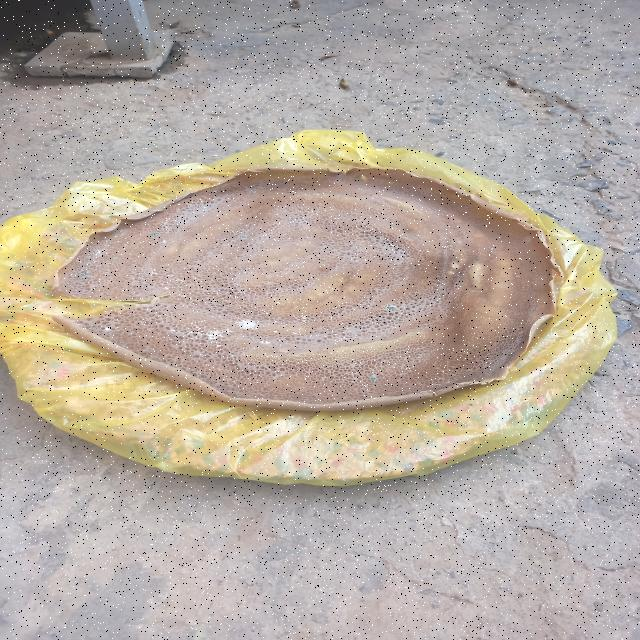injera_mold: (78, 238, 114, 263), (167, 321, 204, 341), (205, 328, 233, 342), (236, 318, 258, 332), (294, 314, 311, 324), (170, 276, 186, 285), (147, 267, 160, 278), (383, 305, 397, 312), (79, 268, 91, 276), (103, 326, 114, 334), (258, 340, 274, 345), (150, 231, 159, 238), (370, 375, 377, 382), (240, 234, 248, 240), (231, 354, 239, 360), (249, 190, 258, 195), (417, 353, 424, 358), (358, 187, 364, 191), (164, 287, 169, 290), (293, 332, 297, 335), (490, 247, 494, 250), (273, 330, 277, 332)
